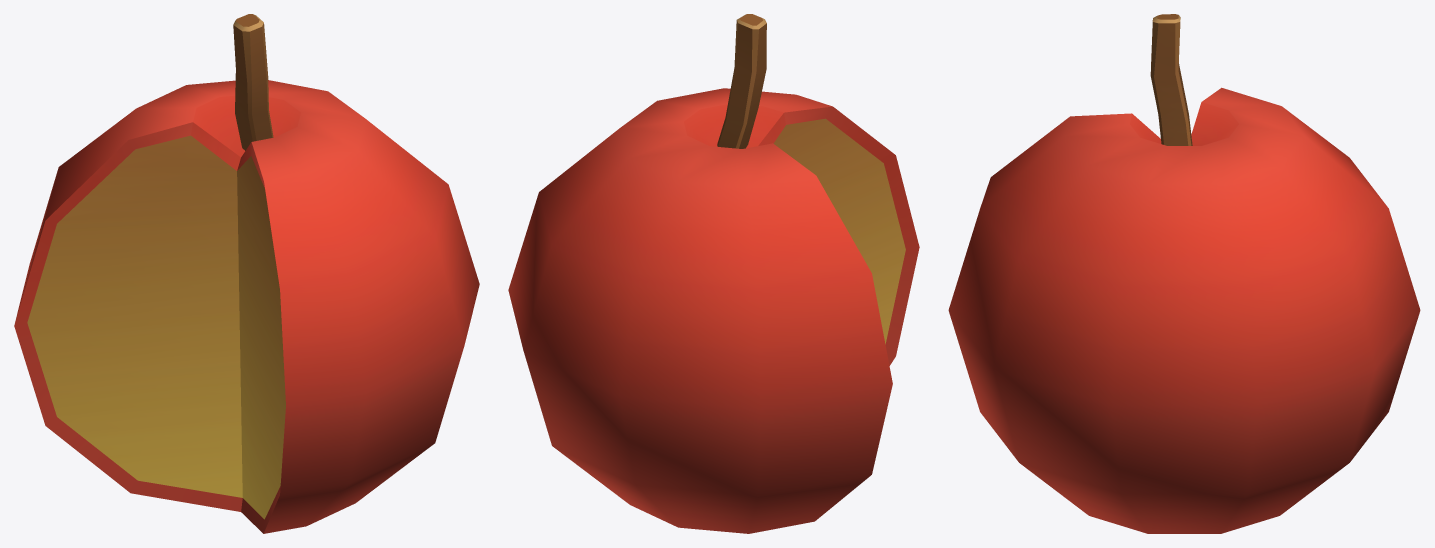
File: Apple_2_B.glb
3 views of the same model, side by side, from view 1: azimuth 30°, elevation 25°; view 2: azimuth 150°, elevation 25°; view 3: azimuth 270°, elevation 25° (orthographic).
Parts seen in each view (by area): view 1: Apple_2_B; view 2: Apple_2_B; view 3: Apple_2_B.
Boxes of the visible parts, box(x1,y1,x2,y2) form: Apple_2_B: box(14, 14, 479, 533); Apple_2_B: box(508, 14, 919, 533); Apple_2_B: box(948, 14, 1420, 533).
Size of the model in its own units: 0.1278 by 0.1555 by 0.1344.
2 materials, 2 textured.
